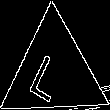L_NE: (31, 42, 77, 102)
